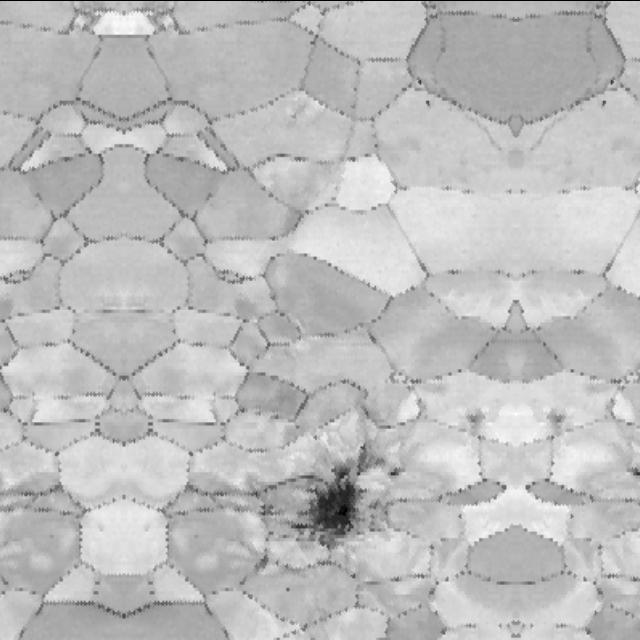good_void: (283, 464, 374, 553), (352, 440, 386, 476), (462, 407, 490, 438), (541, 407, 569, 438), (258, 493, 286, 522), (254, 551, 273, 574), (385, 465, 403, 480), (628, 465, 640, 480), (414, 74, 423, 85), (607, 74, 616, 85), (423, 98, 432, 107), (599, 98, 608, 107), (284, 585, 291, 592)
